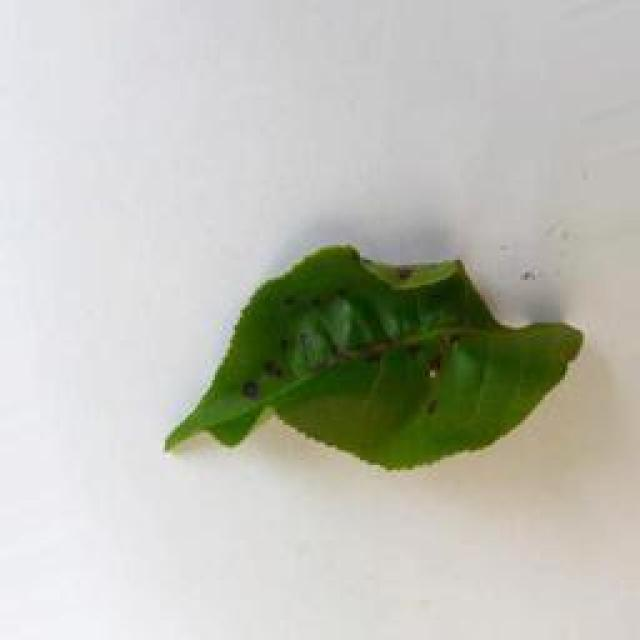Helopeltis: (156, 245, 588, 479)
